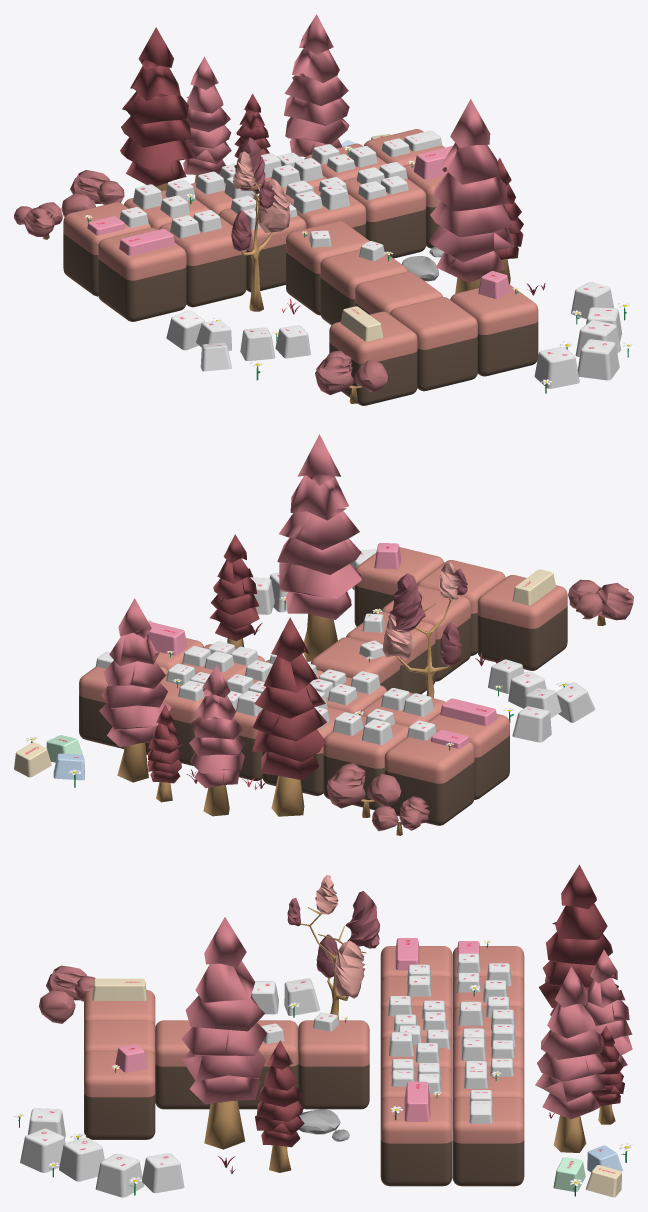
The model's file is ch03_right.fbx.
3 renders of one model, top to bottom at view 1: azimuth 30°, elevation 25°; view 2: azimuth 150°, elevation 25°; view 3: azimuth 270°, elevation 25°, orthographic. The views are drawn at different scales.
Parts seen in each view (by area): view 1: Ch03_Right.001; view 2: Ch03_Right.001; view 3: Ch03_Right.001.
Part boxes in pixels (x1,y1,x2,y2): Ch03_Right.001: [14, 14, 633, 405]; Ch03_Right.001: [14, 434, 633, 835]; Ch03_Right.001: [14, 864, 633, 1197].
Size of the model in its own units: 13.98 by 7.54 by 18.44.
